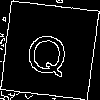Q: (24, 25, 71, 77)
